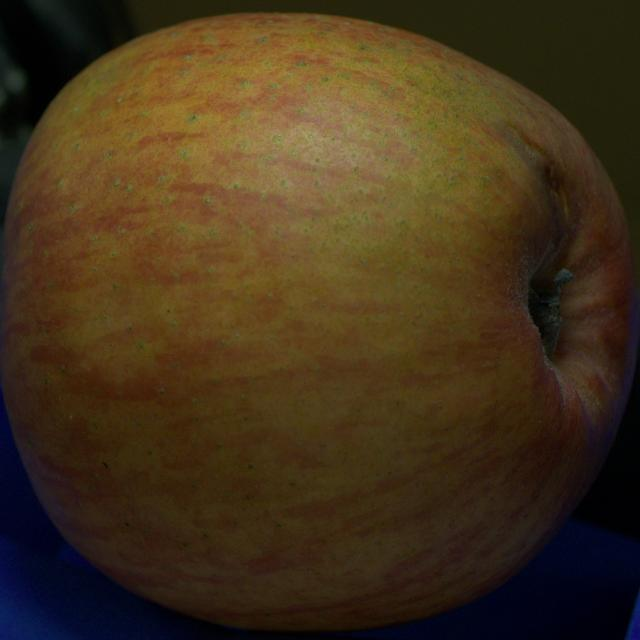apple: (0, 14, 638, 631)
scratch: (494, 117, 573, 254)
